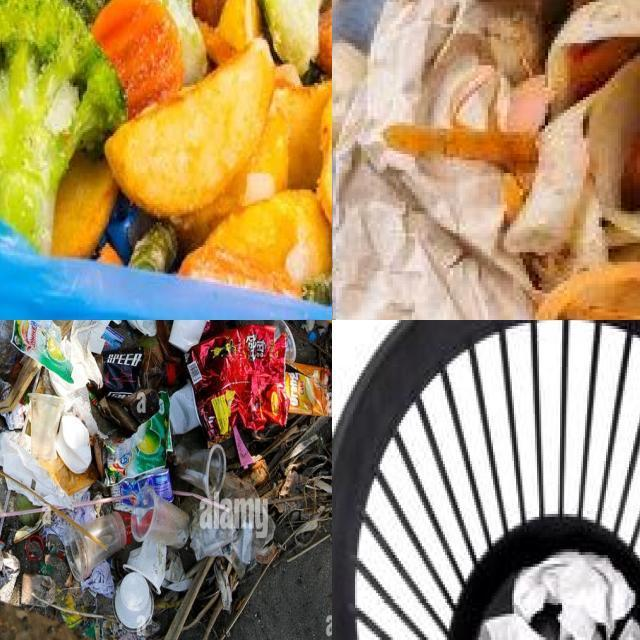Disposable: (65, 512, 126, 582), (131, 486, 190, 547), (174, 445, 227, 499), (113, 571, 153, 630), (30, 393, 63, 460), (126, 320, 156, 336)
Garbage: (0, 320, 332, 629), (473, 0, 640, 320), (461, 539, 640, 640)
Plastic_wraper: (187, 325, 288, 439), (107, 393, 172, 485), (12, 320, 73, 384), (285, 362, 332, 415), (102, 327, 124, 350)
top_view_waste: (332, 320, 640, 640)
